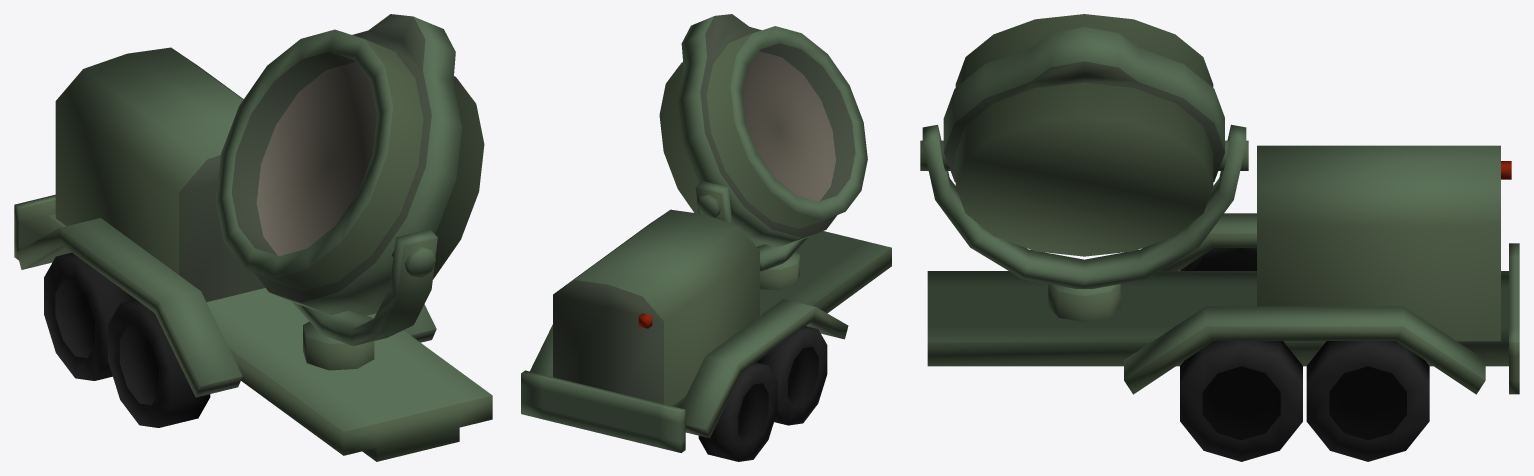
The picture shows the model from 3 angles, left to right: view 1: azimuth 30°, elevation 25°; view 2: azimuth 150°, elevation 25°; view 3: azimuth 270°, elevation 25°; orthographic projection. The views are drawn at different scales.
Visible parts, largest first — view 1: base.059; view 2: base.059; view 3: base.059.
Part boxes in pixels (x1=…): base.059: x1=14, y1=14, x2=492, y2=461; base.059: x1=521, y1=14, x2=891, y2=461; base.059: x1=920, y1=14, x2=1519, y2=461.
Size of the model in its own units: 0.2266 by 0.3806 by 0.5.
